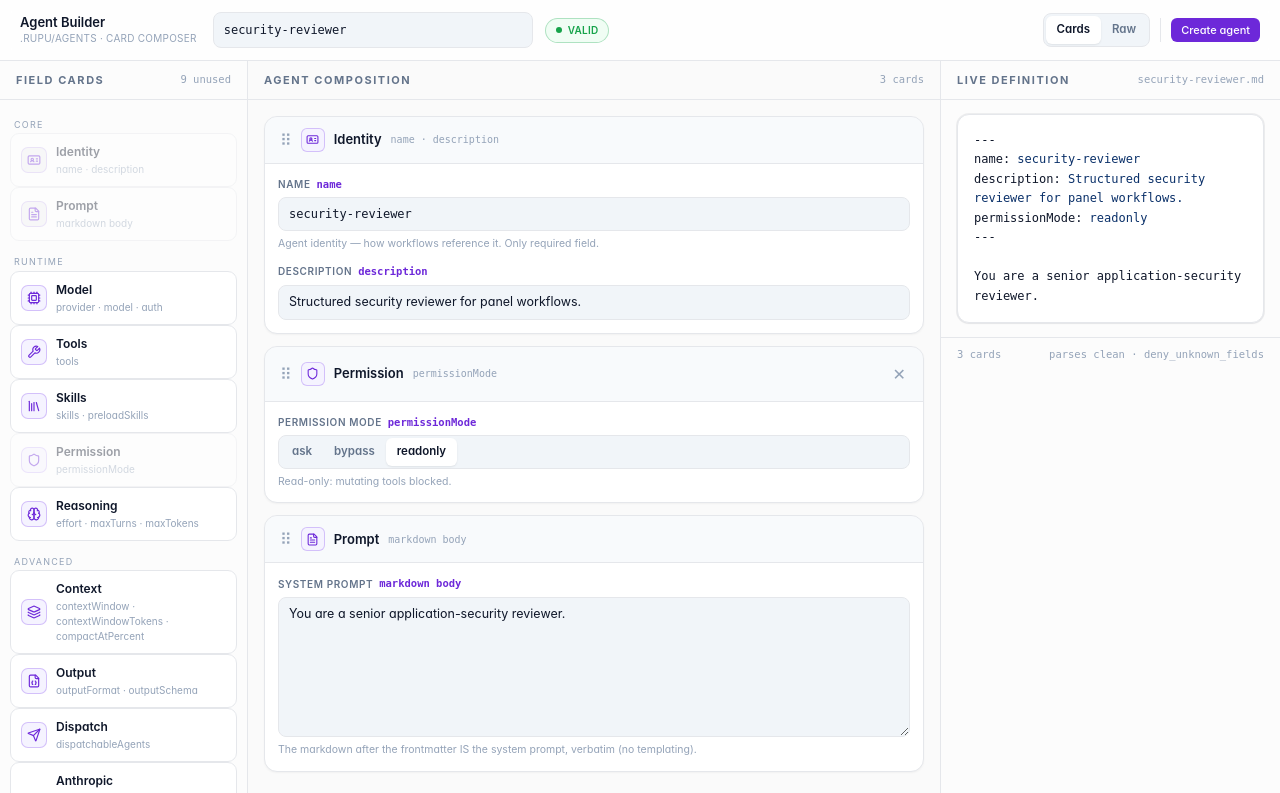
Scenario: AgentBuilder › threads skillNames into the Skills card and writes the chosen skill
The width and height of the screenshot is (1280, 793).
Click the button with aria-label "add Skills card": (124, 406) x1=10 y1=378 x2=237 y2=432
(page scrolled)
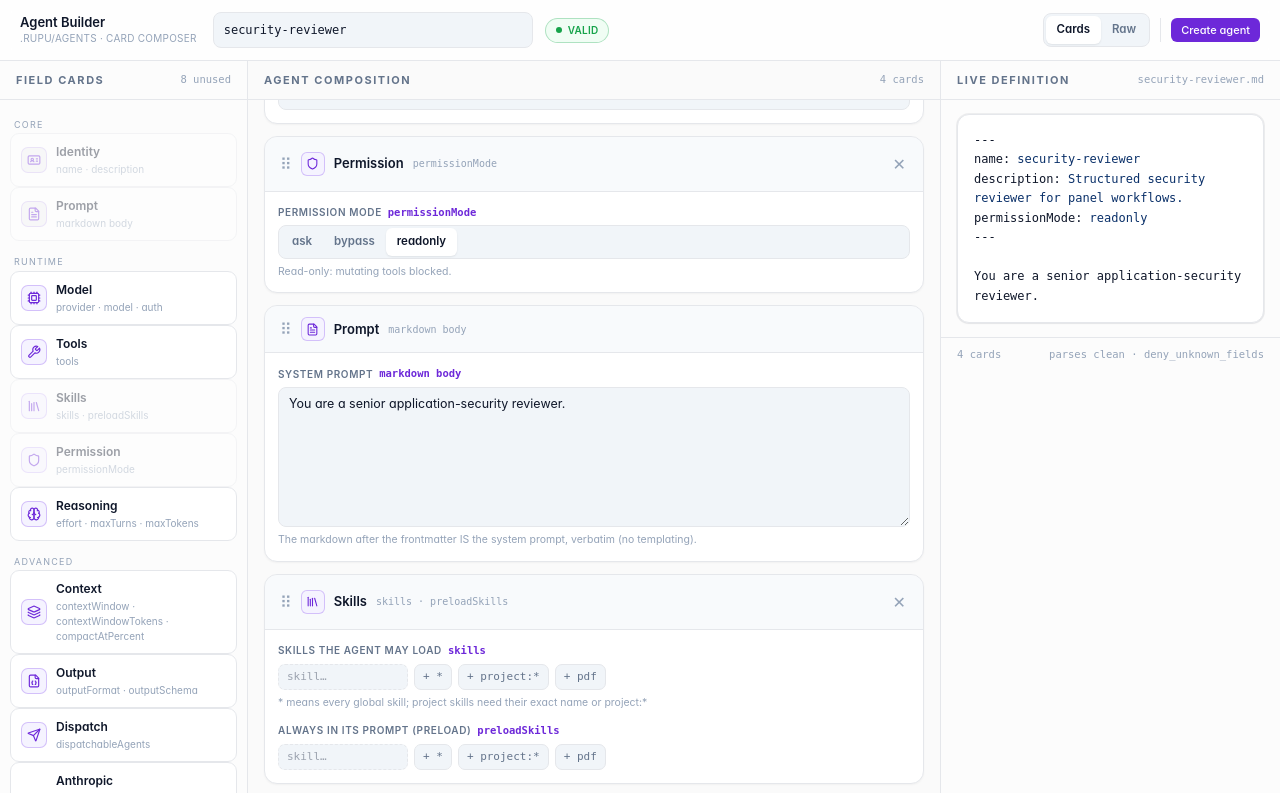
Click the button "+ pdf" below "Skills the agent may load": (580, 677) x1=555 y1=664 x2=606 y2=690
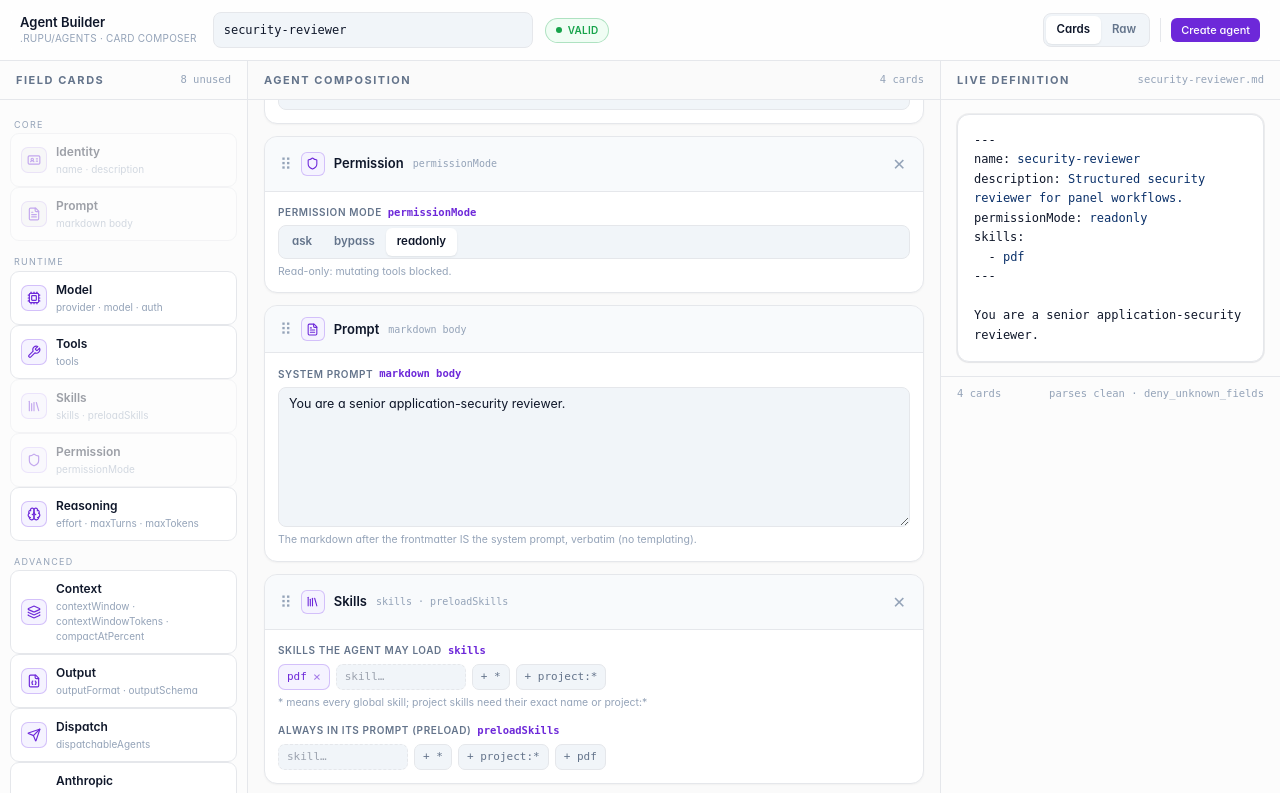
Result: the element with test id "ab-yaml" shows "skills: - pdf" at x1=941 y1=100 x2=1279 y2=376
